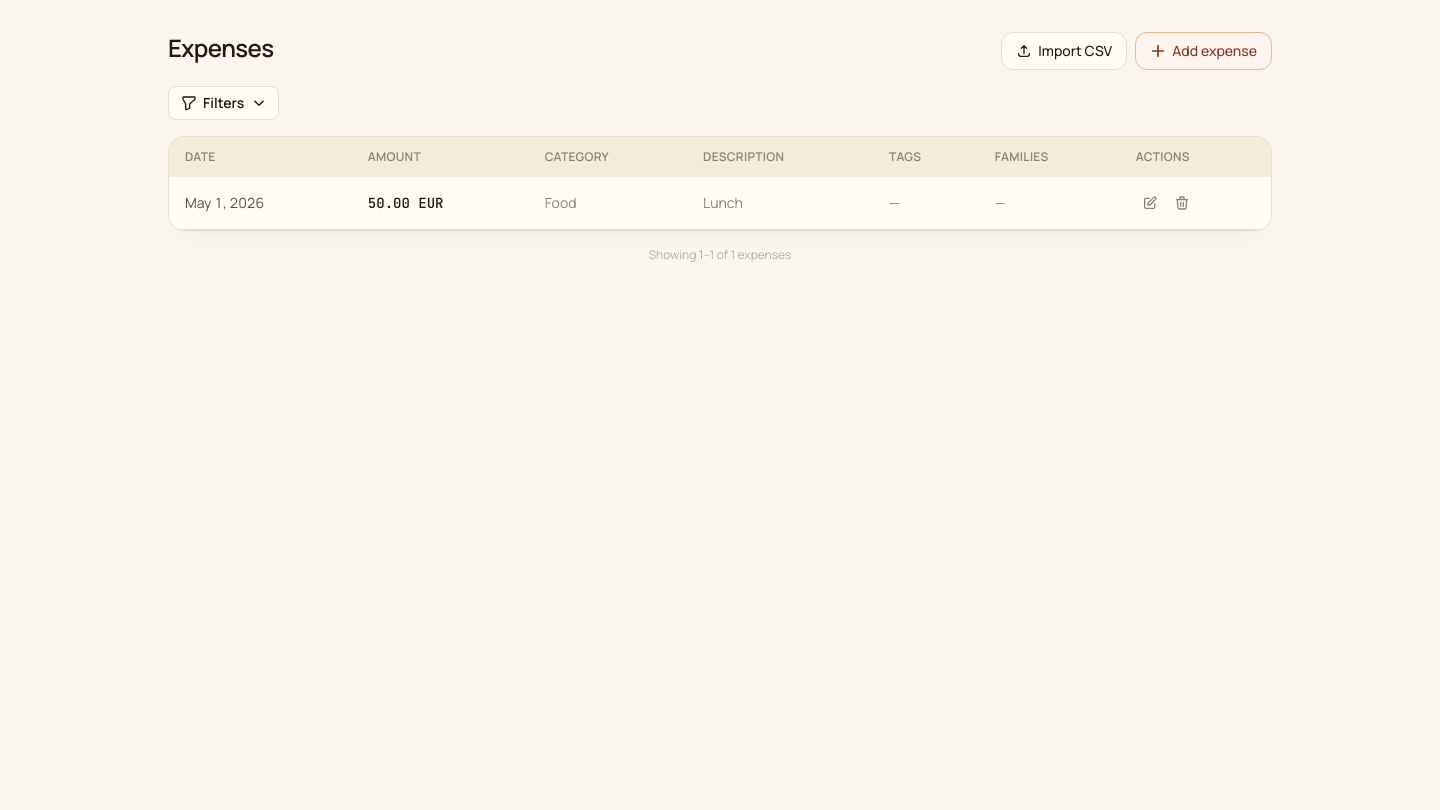
Test: ExpensesPage › closes modal on cancel
The image size is (1440, 810).
Expected: the table is shown, x1=169 y1=137 x2=1271 y2=230
Click the button named "delete": (1182, 203) x1=1168 y1=189 x2=1196 y2=217
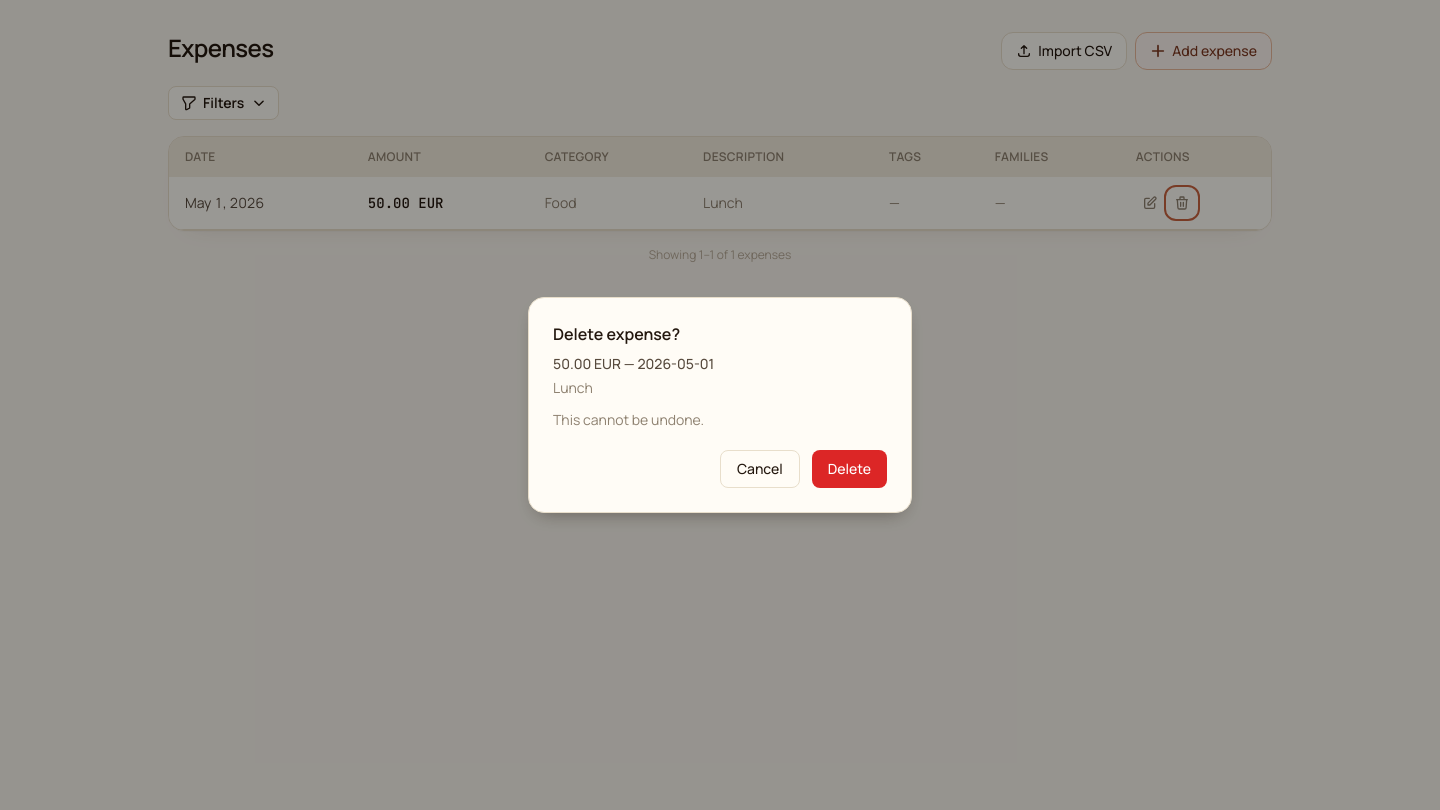
Click the button "Cancel": (760, 469) x1=720 y1=450 x2=800 y2=488
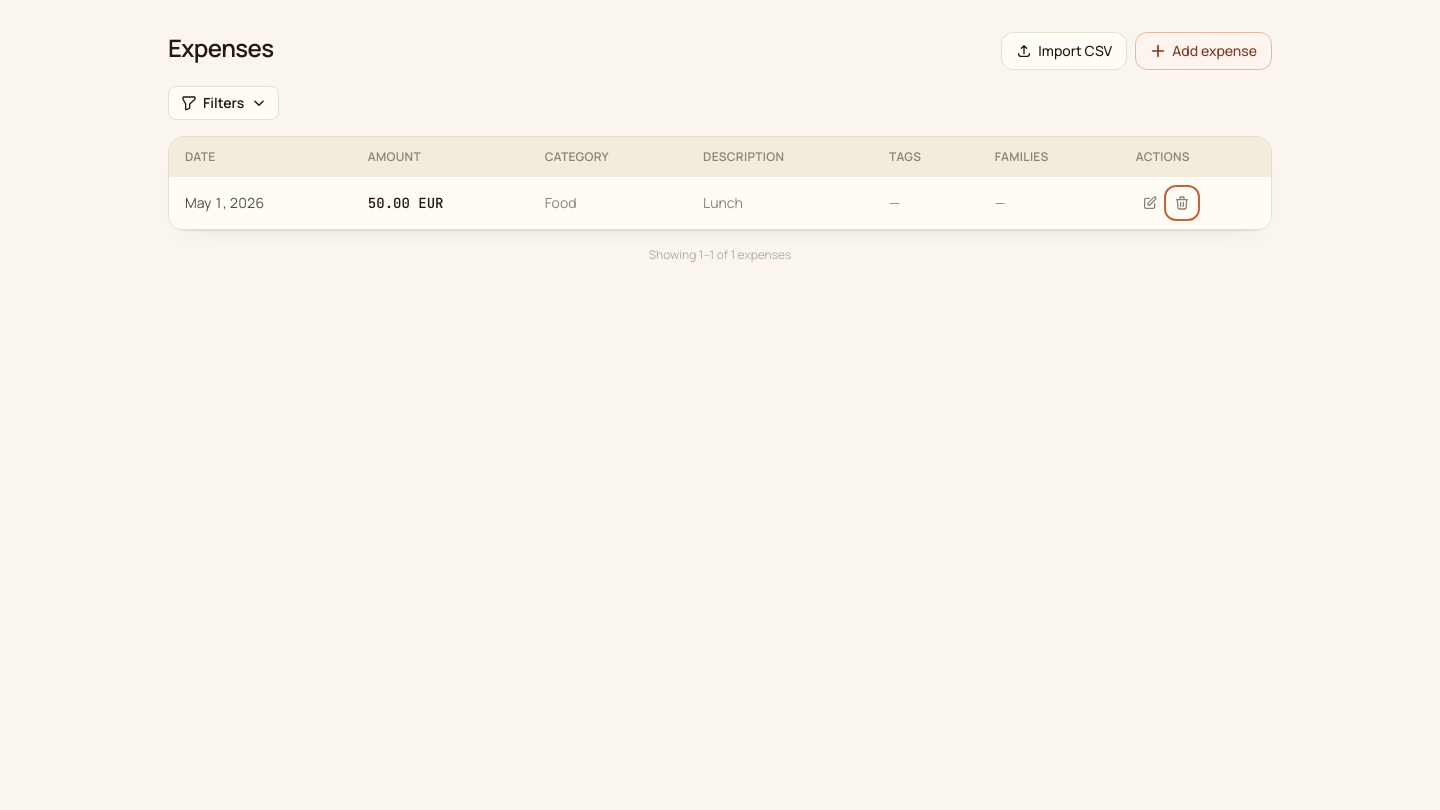
Result: the heading "Delete expense?" is gone
